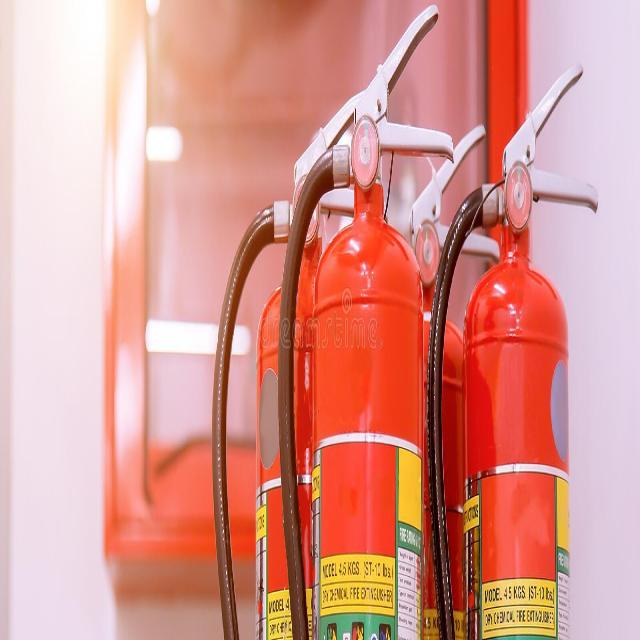fire_extinguisher: (274, 1, 456, 639), (205, 70, 385, 639), (425, 54, 600, 639)
